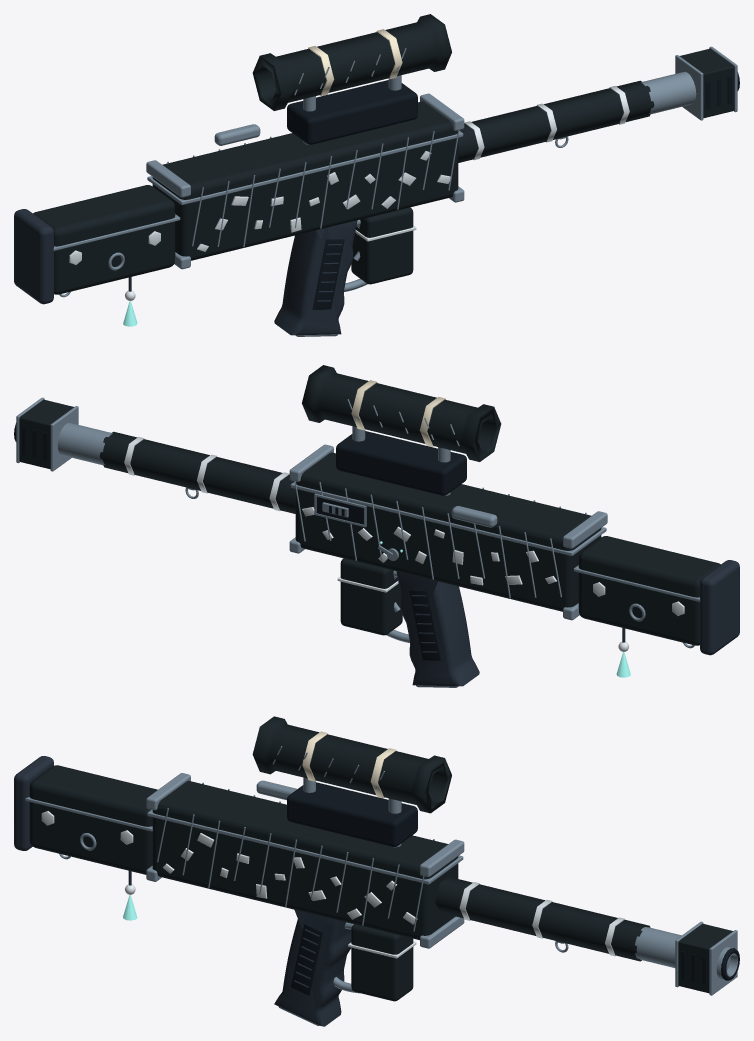
The model's file is night-nacre.glb.
3 views of the same model, one above another, from view 1: azimuth 30°, elevation 25°; view 2: azimuth 150°, elevation 25°; view 3: azimuth 330°, elevation 25° (orthographic).
Visible parts, largest first — view 1: 04_Meridian_DMR__body_Sculpt_coat, 04_Meridian_DMR__stock_Sculpt_coat, 04_Meridian_DMR__optic_Sculpt_coat, 04_Meridian_DMR__body_Sculpt_metal, 04_Meridian_DMR__body_Sculpt_grip, 04_Meridian_DMR__optic_Sculpt_frame, 04_Meridian_DMR__magazine_Sculpt_coat, 04_Meridian_DMR__stock_Sculpt_grip, 04_Meridian_DMR__body_Sculpt_nacre_pearl, 04_Meridian_DMR__body_Sculpt_frame, 04_Meridian_DMR__optic_Sculpt_pearl, 04_Meridian_DMR__stock_Sculpt_metal (+2 smaller); view 2: 04_Meridian_DMR__body_Sculpt_coat, 04_Meridian_DMR__stock_Sculpt_coat, 04_Meridian_DMR__optic_Sculpt_coat, 04_Meridian_DMR__body_Sculpt_metal, 04_Meridian_DMR__body_Sculpt_grip, 04_Meridian_DMR__optic_Sculpt_frame, 04_Meridian_DMR__magazine_Sculpt_coat, 04_Meridian_DMR__stock_Sculpt_grip, 04_Meridian_DMR__body_Sculpt_frame, 04_Meridian_DMR__body_Sculpt_nacre_pearl, 04_Meridian_DMR__bolt_Sculpt_metal, 04_Meridian_DMR__optic_Sculpt_pearl (+2 smaller); view 3: 04_Meridian_DMR__body_Sculpt_coat, 04_Meridian_DMR__stock_Sculpt_coat, 04_Meridian_DMR__optic_Sculpt_coat, 04_Meridian_DMR__body_Sculpt_metal, 04_Meridian_DMR__optic_Sculpt_frame, 04_Meridian_DMR__body_Sculpt_grip, 04_Meridian_DMR__magazine_Sculpt_coat, 04_Meridian_DMR__body_Sculpt_nacre_pearl, 04_Meridian_DMR__body_Sculpt_frame, 04_Meridian_DMR__stock_Sculpt_grip, 04_Meridian_DMR__optic_Sculpt_pearl, 04_Meridian_DMR__stock_Sculpt_metal (+1 smaller).
Part boxes in pixels (x1,y1,x2,y2): 04_Meridian_DMR__body_Sculpt_coat: (152, 48, 734, 260); 04_Meridian_DMR__stock_Sculpt_coat: (33, 185, 175, 294); 04_Meridian_DMR__optic_Sculpt_coat: (252, 14, 451, 110); 04_Meridian_DMR__body_Sculpt_metal: (146, 46, 737, 336); 04_Meridian_DMR__body_Sculpt_grip: (274, 220, 357, 335); 04_Meridian_DMR__optic_Sculpt_frame: (287, 80, 417, 144); 04_Meridian_DMR__magazine_Sculpt_coat: (351, 207, 413, 284); 04_Meridian_DMR__stock_Sculpt_grip: (14, 209, 131, 304); 04_Meridian_DMR__body_Sculpt_nacre_pearl: (197, 86, 629, 251); 04_Meridian_DMR__body_Sculpt_frame: (312, 72, 739, 309); 04_Meridian_DMR__optic_Sculpt_pearl: (308, 29, 402, 95); 04_Meridian_DMR__stock_Sculpt_metal: (53, 214, 180, 297); 04_Meridian_DMR__body_Sculpt_coat: (19, 399, 601, 611); 04_Meridian_DMR__stock_Sculpt_coat: (578, 536, 720, 645); 04_Meridian_DMR__optic_Sculpt_coat: (302, 365, 501, 461); 04_Meridian_DMR__body_Sculpt_metal: (16, 397, 607, 687); 04_Meridian_DMR__body_Sculpt_grip: (396, 571, 479, 686); 04_Meridian_DMR__optic_Sculpt_frame: (336, 431, 466, 495); 04_Meridian_DMR__magazine_Sculpt_coat: (340, 558, 402, 635); 04_Meridian_DMR__stock_Sculpt_grip: (622, 560, 739, 655); 04_Meridian_DMR__body_Sculpt_frame: (14, 423, 441, 660); 04_Meridian_DMR__body_Sculpt_nacre_pearl: (124, 437, 556, 585); 04_Meridian_DMR__bolt_Sculpt_metal: (322, 502, 497, 527); 04_Meridian_DMR__optic_Sculpt_pearl: (351, 380, 445, 446); 04_Meridian_DMR__body_Sculpt_coat: (152, 780, 732, 993); 04_Meridian_DMR__stock_Sculpt_coat: (29, 765, 157, 874); 04_Meridian_DMR__optic_Sculpt_coat: (252, 716, 451, 813); 04_Meridian_DMR__body_Sculpt_metal: (146, 773, 737, 1025); 04_Meridian_DMR__optic_Sculpt_frame: (287, 782, 417, 846); 04_Meridian_DMR__body_Sculpt_grip: (274, 909, 351, 1026); 04_Meridian_DMR__magazine_Sculpt_coat: (351, 924, 413, 1001); 04_Meridian_DMR__body_Sculpt_nacre_pearl: (162, 833, 625, 956); 04_Meridian_DMR__body_Sculpt_frame: (291, 923, 739, 995); 04_Meridian_DMR__stock_Sculpt_grip: (14, 756, 131, 885); 04_Meridian_DMR__optic_Sculpt_pearl: (302, 731, 396, 798); 04_Meridian_DMR__stock_Sculpt_metal: (25, 797, 152, 859).
Bounding box in the file's own units: 3.31 × 1.27 × 0.3402.
